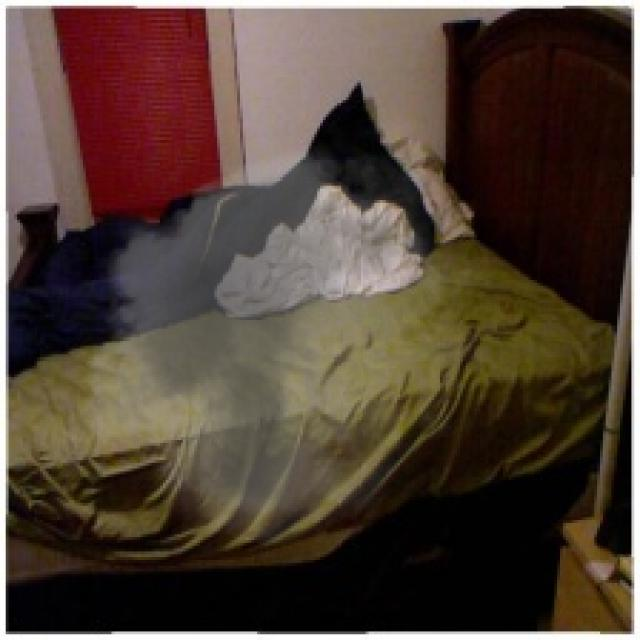smoke: (66, 131, 491, 546)
